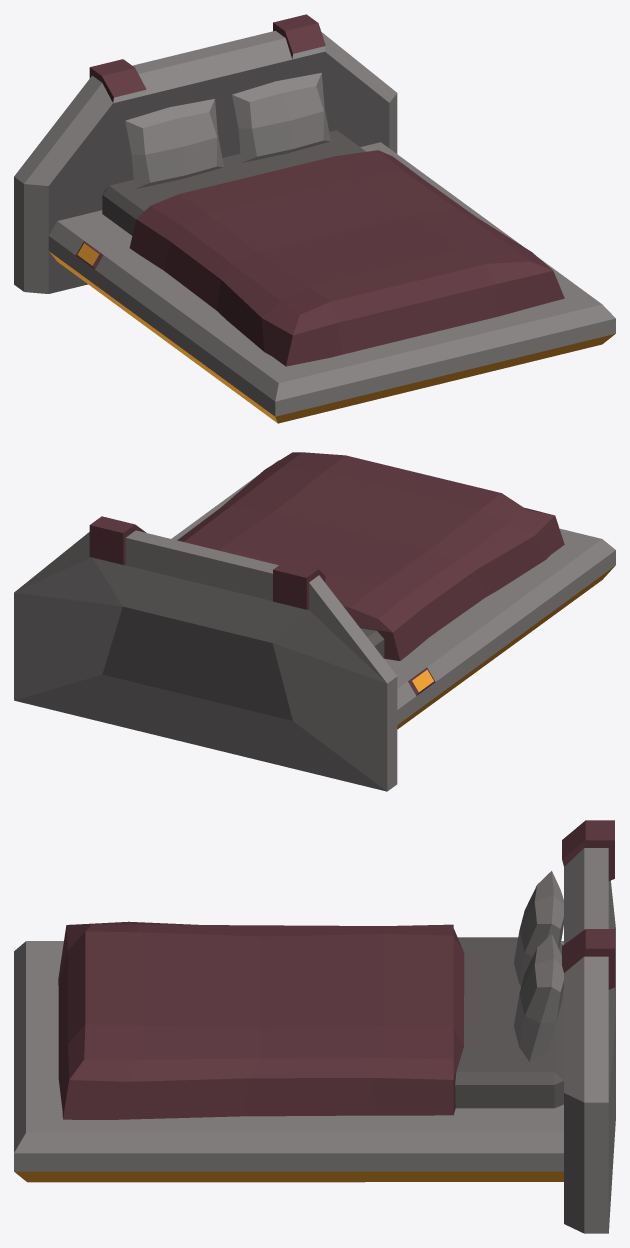
File: scifi-bed-large.fbx
The picture shows the model from 3 angles, top to bottom: view 1: azimuth 30°, elevation 25°; view 2: azimuth 150°, elevation 25°; view 3: azimuth 270°, elevation 25°; orthographic projection. The views are drawn at different scales.
Visible parts, largest first — view 1: scifi-bed-large; view 2: scifi-bed-large; view 3: scifi-bed-large.
Boxes of the visible parts, x1,y1,x2,y2 form: scifi-bed-large: (14,14,615,423); scifi-bed-large: (14,452,615,791); scifi-bed-large: (14,820,615,1233).
Bounding box in the file's own units: 2.2 × 1.11 × 2.53.
